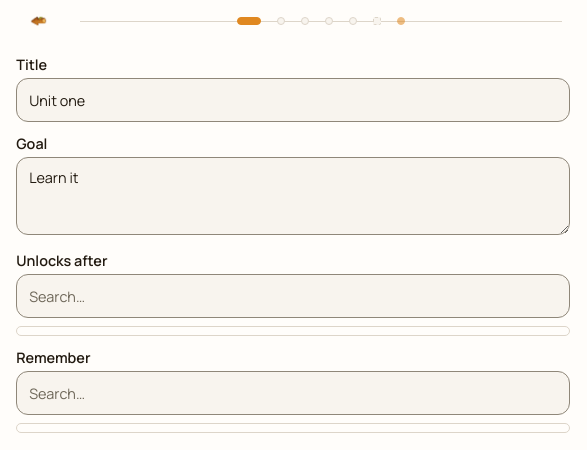
Scenario: UnitScreen in edit mode › keeps Script/Gloss as static headings, unlike a note table's own header row
The width and height of the screenshot is (587, 450).
Click the button named "Page 3 of 6": (305, 21) [301,17,309,25]
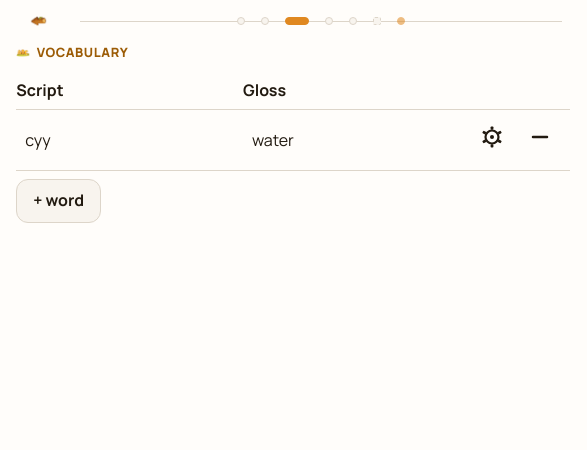
Now the text box is gone
